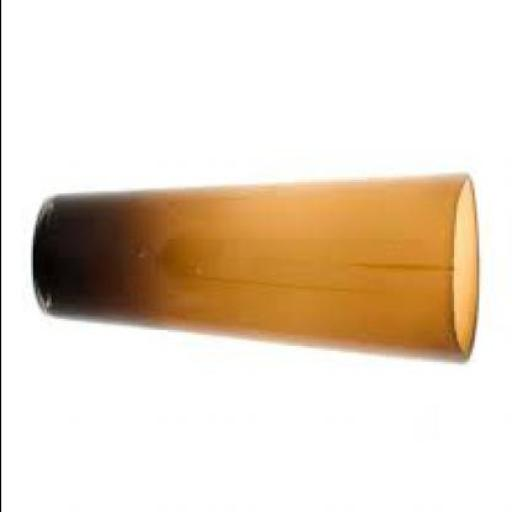glass: (37, 175, 480, 367)
